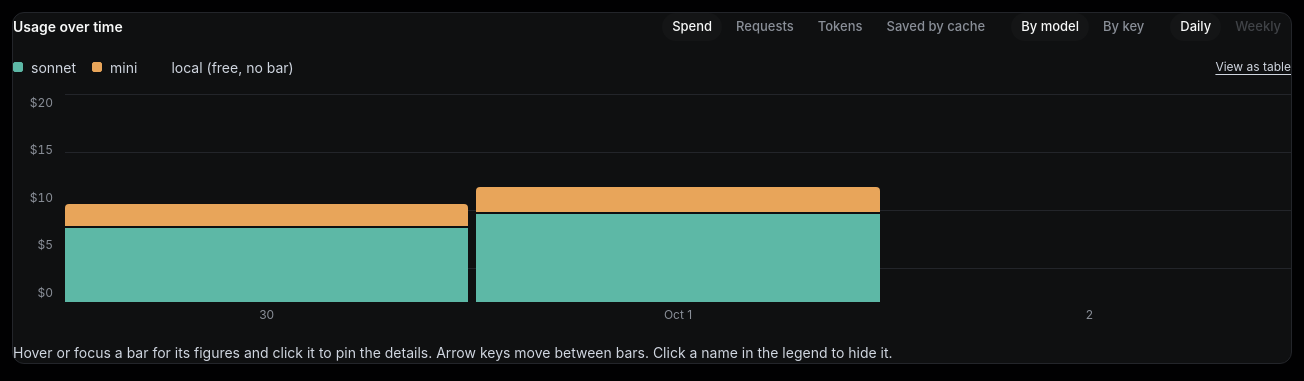
Test: UsageChart › shows a tooltip with the breakdown on hover and focus, and hides it after
The image size is (1304, 381).
Hover over the button named "Sep 30: $9.20 spent (sonnet $7.10, mini $2.10)" at (267, 215), box [65,94,468,302]
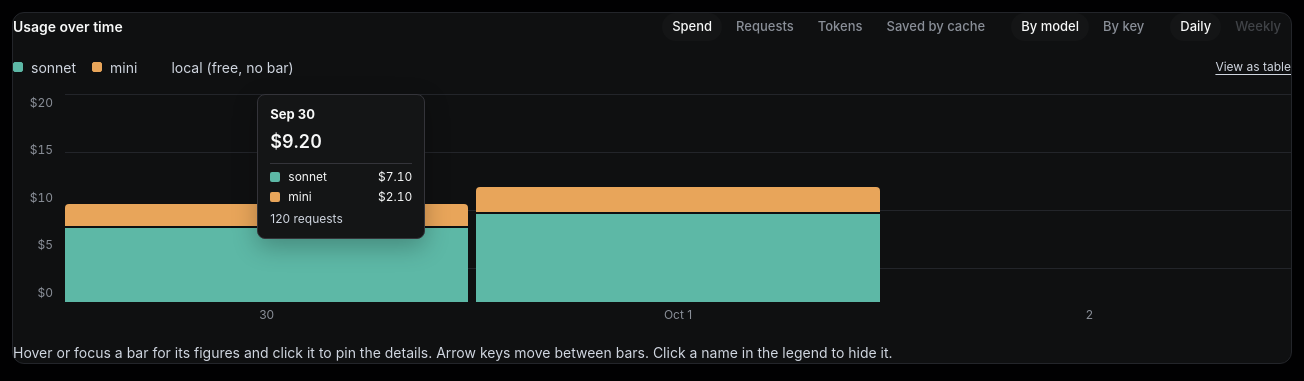
Now the text "Sep 30" is shown, box [270,106,315,122]
Now the text "$9.20" is shown, box [270,131,322,152]
Now the text "sonnet" is shown, box [288,169,327,184]
Move the pointer off the element showing "30 Oct 1 2 Sep 30 $9.20 sonnet $7.10 mini $2.10 120 requests", box [65,94,1291,326]
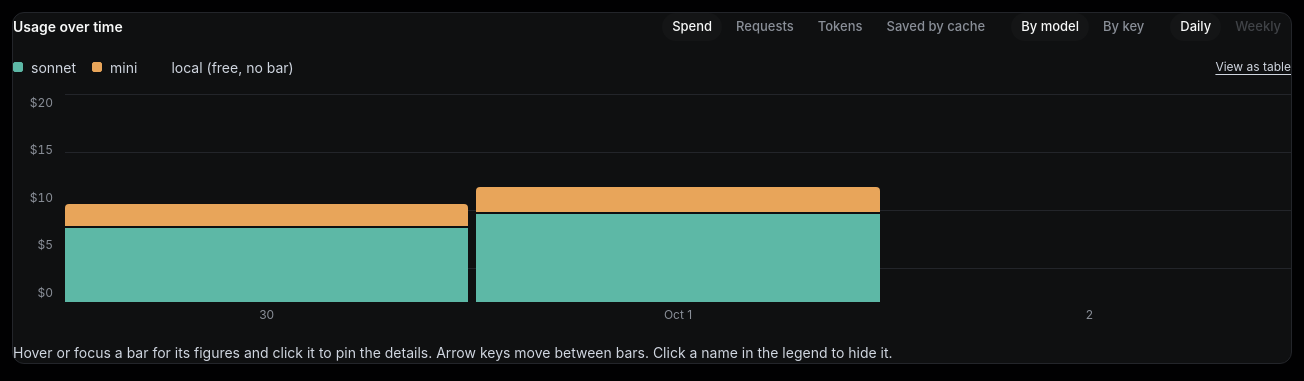
Now the tooltip "Sep 30 $9.20 sonnet $7.10 mini $2.10 120 requests" is gone
